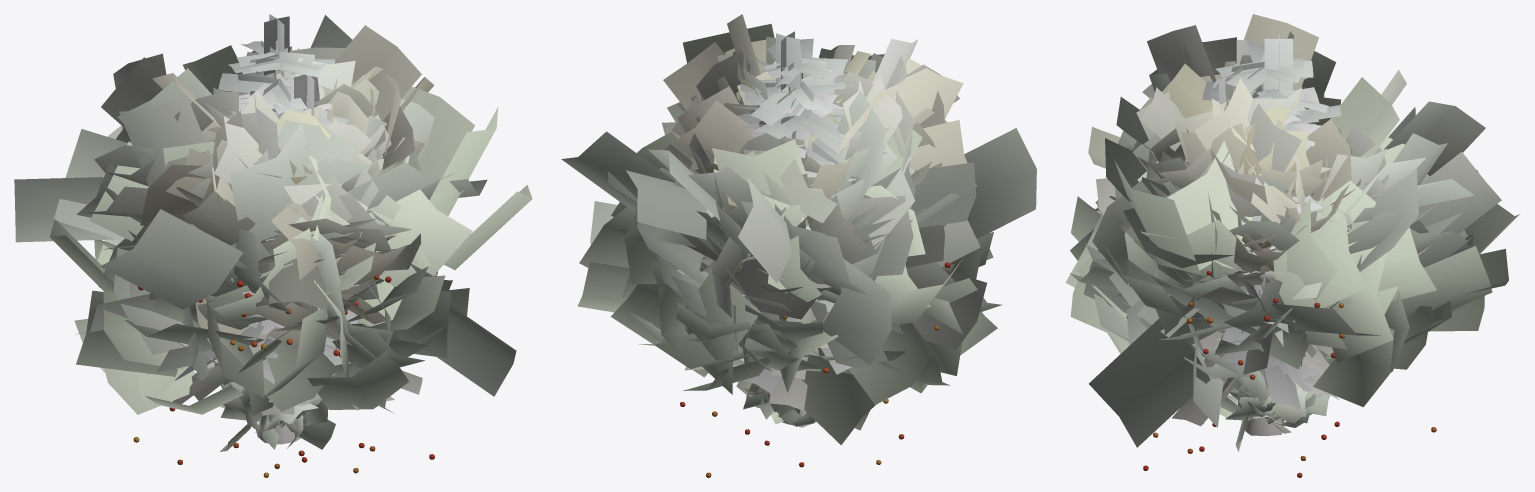
File: trees.glb
3 renders of one model, left to right at view 1: azimuth 30°, elevation 25°; view 2: azimuth 150°, elevation 25°; view 3: azimuth 270°, elevation 25°, orthographic. The views are drawn at different scales.
Parts seen in each view (by area): view 1: oak_b_lod0, apple_a_lod0, apple_b_lod0, oak_a_lod0, beech_a_lod0, oak_c_lod0, pine_b_lod0, bush_a_lod0, pine_a_lod0, pine_c_lod0, beech_b_lod0, bush_b_lod0; view 2: oak_a_lod0, oak_b_lod0, apple_b_lod0, apple_a_lod0, oak_c_lod0, pine_b_lod0, beech_a_lod0, pine_a_lod0, beech_b_lod0, pine_c_lod0, bush_a_lod0, bush_b_lod0; view 3: apple_b_lod0, oak_b_lod0, oak_a_lod0, oak_c_lod0, apple_a_lod0, beech_a_lod0, pine_b_lod0, beech_b_lod0, pine_a_lod0, bush_a_lod0, pine_c_lod0, bush_b_lod0.
Part boxes in pixels (x1,y1,x2,y2): oak_b_lod0: (14, 15, 516, 444); apple_a_lod0: (74, 45, 472, 477); apple_b_lod0: (50, 86, 532, 473); oak_a_lod0: (76, 47, 420, 417); beech_a_lod0: (102, 75, 420, 311); oak_c_lod0: (140, 25, 434, 346); pine_b_lod0: (218, 14, 348, 354); bush_a_lod0: (219, 381, 335, 449); pine_a_lod0: (175, 74, 358, 383); pine_c_lod0: (172, 238, 422, 415); beech_b_lod0: (276, 66, 398, 258); bush_b_lod0: (220, 390, 303, 451); oak_a_lod0: (637, 36, 986, 427); oak_b_lod0: (561, 46, 1036, 427); apple_b_lod0: (577, 23, 997, 477); apple_a_lod0: (638, 139, 1001, 467); oak_c_lod0: (660, 14, 976, 261); pine_b_lod0: (733, 31, 856, 322); beech_a_lod0: (695, 38, 959, 262); pine_a_lod0: (739, 57, 851, 393); beech_b_lod0: (694, 39, 876, 226); pine_c_lod0: (736, 121, 834, 410); bush_a_lod0: (743, 383, 815, 426); bush_b_lod0: (736, 380, 869, 430); apple_b_lod0: (1071, 141, 1519, 477); oak_b_lod0: (1083, 31, 1474, 447); oak_a_lod0: (1115, 68, 1501, 380); oak_c_lod0: (1096, 14, 1351, 379); apple_a_lod0: (1065, 70, 1432, 460); beech_a_lod0: (1088, 25, 1341, 273); pine_b_lod0: (1202, 33, 1341, 367); beech_b_lod0: (1159, 63, 1360, 250); pine_a_lod0: (1199, 79, 1328, 410); bush_a_lod0: (1225, 370, 1330, 451); pine_c_lod0: (1172, 246, 1339, 426); bush_b_lod0: (1219, 383, 1315, 433).
Size of what is drawn, in the model's own units: 6.86 by 6.74 by 6.9.
